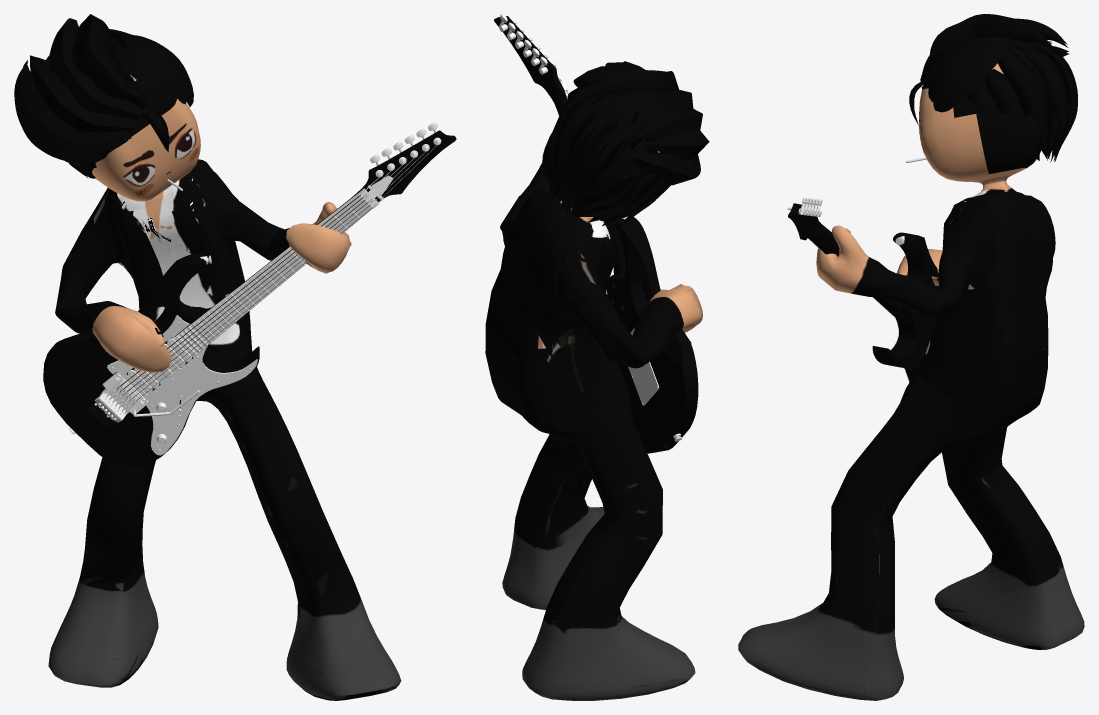
Rendered from personaje2.glb.
3 renders of one model, left to right at view 1: azimuth 30°, elevation 25°; view 2: azimuth 150°, elevation 25°; view 3: azimuth 270°, elevation 25°, orthographic. The views are drawn at different scales.
Visible parts, largest first — view 1: cuerpo-Nodo, uv1_combined_pCylinder9uvd-RS Standard.1 (×6), Nulo, cuerpo-RS Standard.1 (×7); view 2: cuerpo-Nodo, Nulo, cuerpo-RS Standard.1 (×8), uv1_combined_pCylinder9uvd-RS Standard.1 (×3); view 3: cuerpo-Nodo, cuerpo-RS Standard.1 (×5), Nulo, uv1_combined_pCylinder9uvd-RS Standard.1 (×2).
Part boxes in pixels (<box>): cuerpo-Nodo: <box>48,75,401,700</box>; uv1_combined_pCylinder9uvd-RS Standard.1 (×6): <box>43,122,456,467</box>; Nulo: <box>14,14,193,178</box>; cuerpo-RS Standard.1 (×7): <box>55,159,266,408</box>; cuerpo-Nodo: <box>485,151,702,700</box>; Nulo: <box>547,61,709,227</box>; cuerpo-RS Standard.1 (×8): <box>486,187,676,484</box>; uv1_combined_pCylinder9uvd-RS Standard.1 (×3): <box>494,14,698,453</box>; cuerpo-Nodo: <box>738,63,1084,700</box>; cuerpo-RS Standard.1 (×5): <box>902,73,1055,448</box>; Nulo: <box>909,14,1077,164</box>; uv1_combined_pCylinder9uvd-RS Standard.1 (×2): <box>788,203,939,381</box>.
Bounding box in the file's own units: 1.68 × 3.2 × 1.67.
3 materials, 1 textured.
